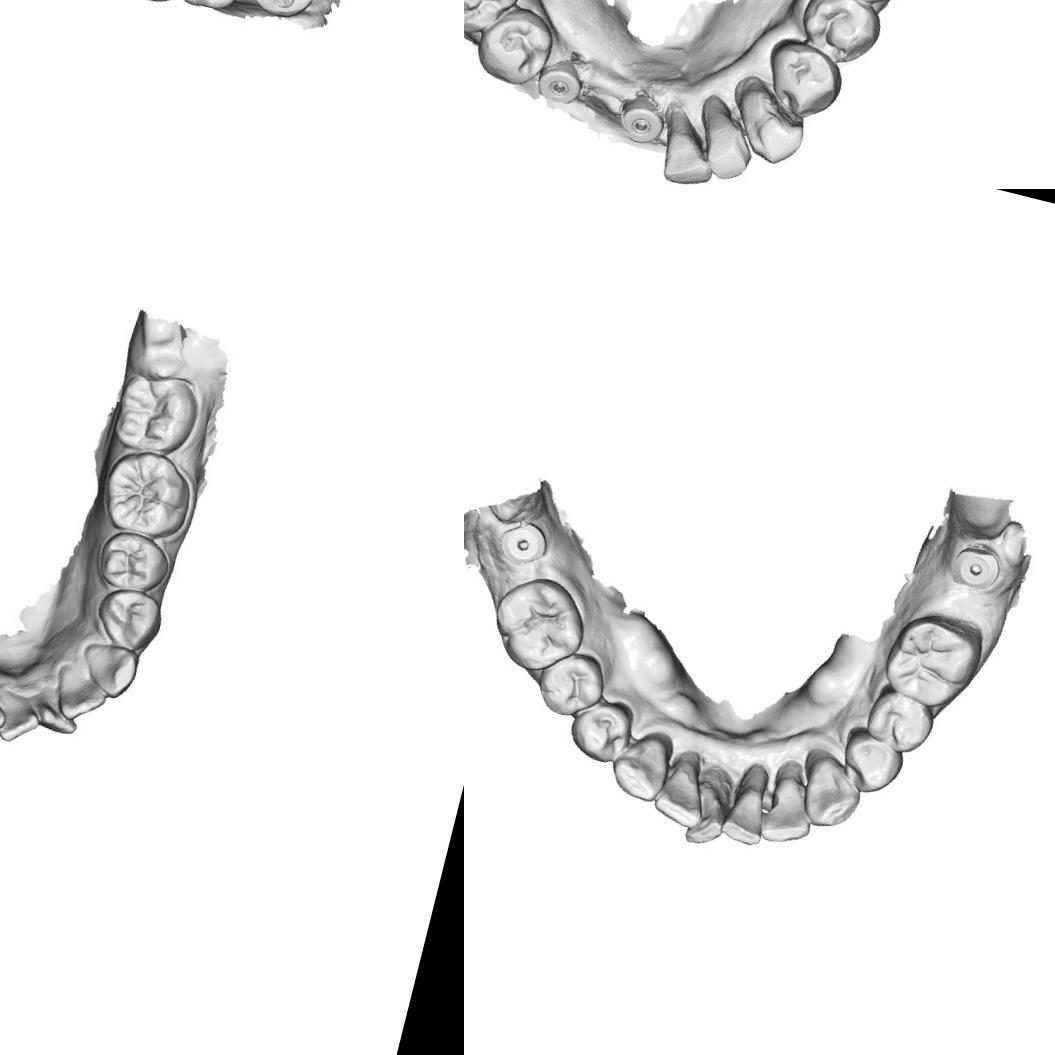canine: (724, 80, 815, 170), (606, 724, 678, 806), (797, 751, 868, 834), (80, 638, 146, 700)
implant: (942, 534, 1004, 596), (495, 511, 553, 570), (534, 59, 590, 112), (618, 97, 667, 147)
incisor: (691, 110, 762, 186), (650, 756, 714, 832), (655, 120, 723, 189), (759, 775, 819, 851), (717, 774, 775, 848), (680, 779, 734, 850), (51, 662, 108, 721), (29, 683, 83, 740), (0, 688, 44, 744)
molar: (483, 568, 592, 682), (876, 606, 988, 716), (97, 448, 196, 544), (108, 368, 196, 454), (169, 0, 256, 18), (241, 0, 324, 18)
premolar: (754, 31, 852, 126), (473, 2, 559, 92), (530, 642, 612, 726), (791, 0, 887, 70), (860, 683, 938, 761), (92, 525, 171, 599), (563, 690, 637, 769), (832, 721, 906, 800), (92, 586, 161, 650)
